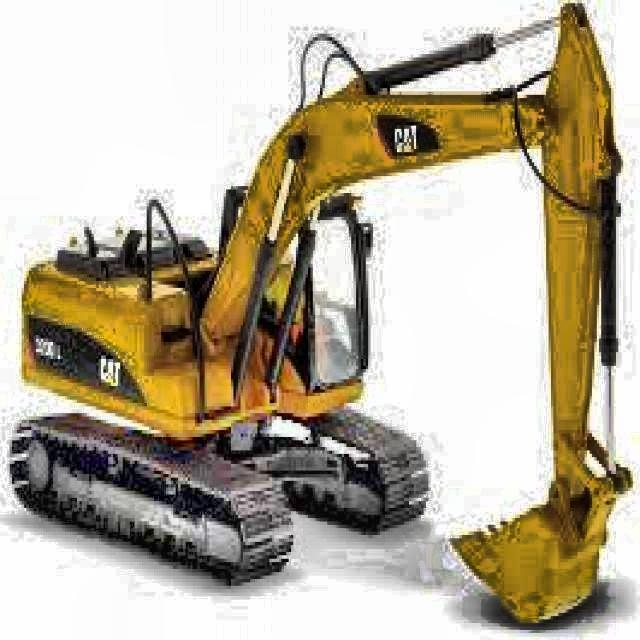bull_dozer/loader/grader: (6, 0, 639, 626)
person: (274, 251, 332, 350)
